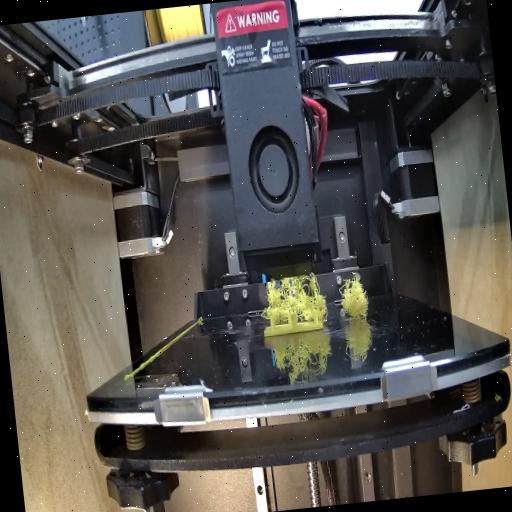spaghetti: (257, 269, 329, 324), (336, 271, 370, 318)
